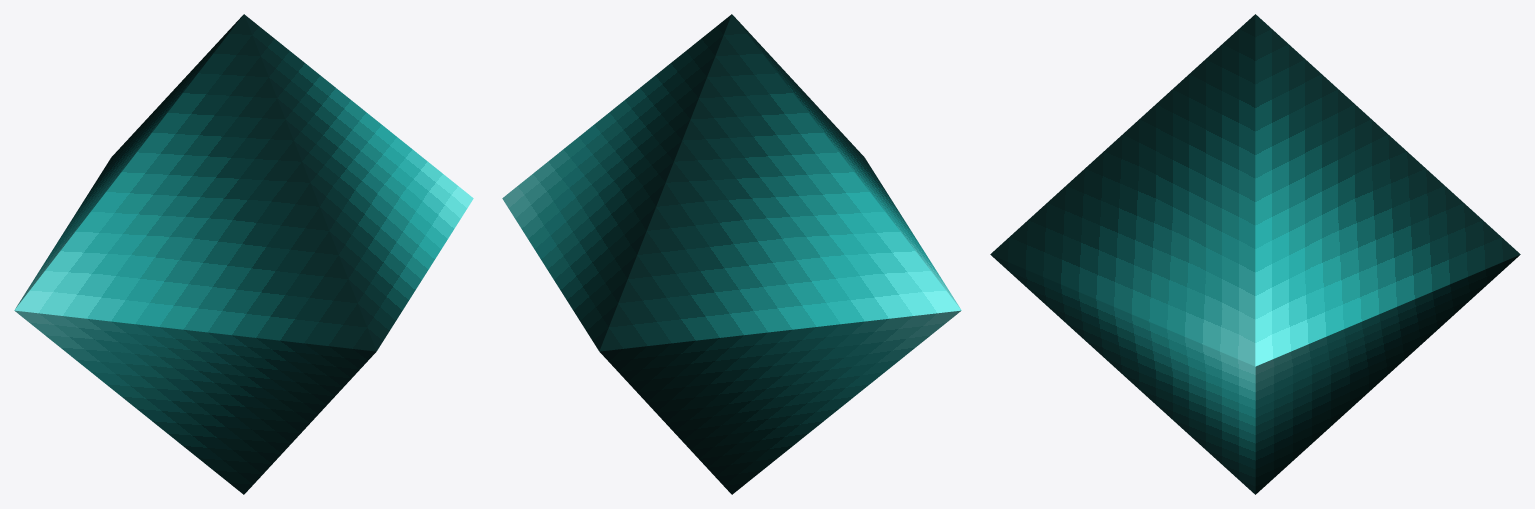
Rendered from Enemy.gltf.
3 views of the same model, side by side, from view 1: azimuth 30°, elevation 25°; view 2: azimuth 150°, elevation 25°; view 3: azimuth 270°, elevation 25° (orthographic).
Parts seen in each view (by area): view 1: Enemy; view 2: Enemy; view 3: Enemy.
Part boxes in pixels (x1,y1,x2,y2): Enemy: [14, 14, 473, 494]; Enemy: [502, 14, 961, 494]; Enemy: [990, 14, 1520, 494].
Size of the model in its own units: 14 by 14 by 14.
Materials: 1 (1 with a texture image).
